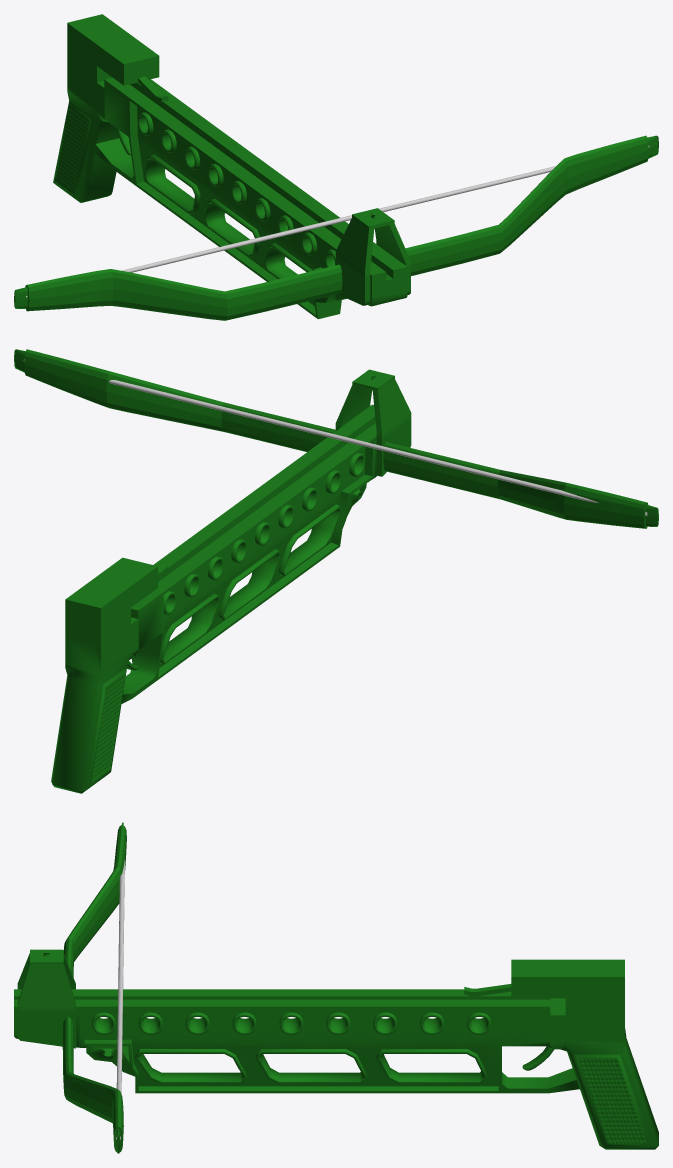
Rendered from CrossBow.FBX.
The picture shows the model from 3 angles, top to bottom: view 1: azimuth 30°, elevation 25°; view 2: azimuth 150°, elevation 25°; view 3: azimuth 270°, elevation 25°; orthographic projection.
Visible parts, largest first — view 1: CrossBow; view 2: CrossBow; view 3: CrossBow.
Boxes of the visible parts, x1=… form: CrossBow: x1=14, y1=14, x2=658, y2=320; CrossBow: x1=14, y1=349, x2=658, y2=793; CrossBow: x1=14, y1=822, x2=658, y2=1153.
Size of the model in its own units: 577 by 164 by 501.
